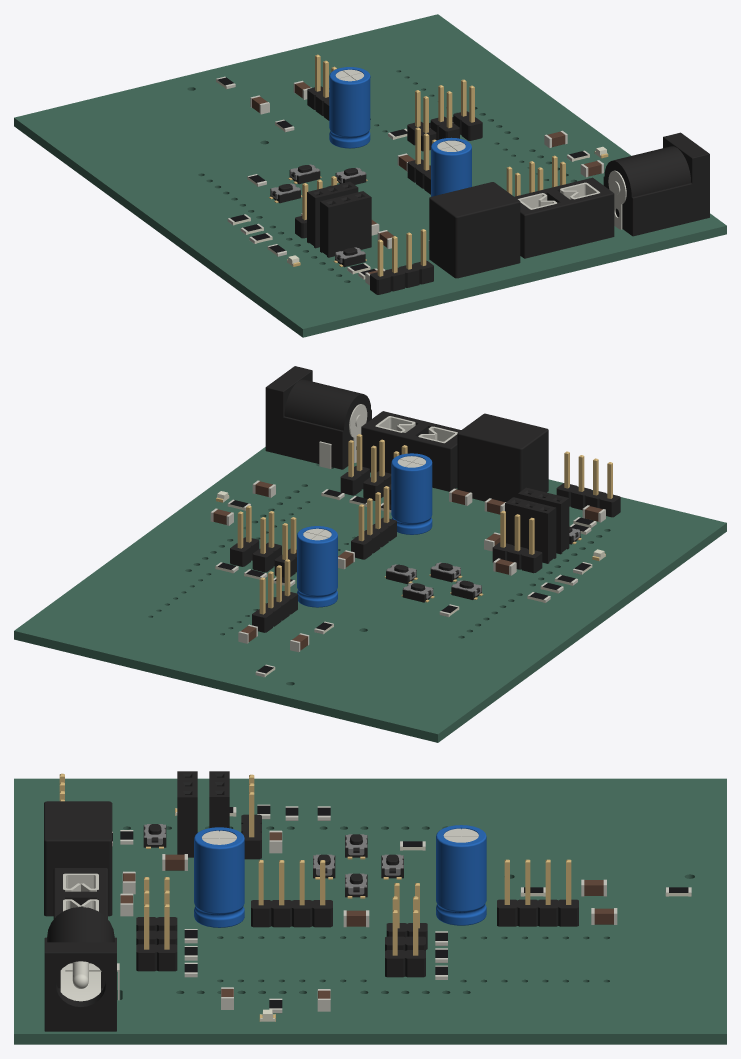
Rendered from pcb.glb.
3 views of the same model, one above another, from view 1: azimuth 30°, elevation 25°; view 2: azimuth 150°, elevation 25°; view 3: azimuth 270°, elevation 25° (orthographic). The views are drawn at different scales.
Parts seen in each view (by area): view 1: =>[0:1:1:26], =>[0:1:1:25], =>[0:1:1:21], =>[0:1:1:7], =>[0:1:1:19] (×2), =>[0:1:1:9] (×3), =>[0:1:1:13] (×2), =>[0:1:1:11] (×3), =>[0:1:1:23]; view 2: =>[0:1:1:26], =>[0:1:1:25], =>[0:1:1:21], =>[0:1:1:19] (×2), =>[0:1:1:9] (×3), =>[0:1:1:11] (×5), =>[0:1:1:7], =>[0:1:1:13] (×2), =>[0:1:1:23]; view 3: =>[0:1:1:26], =>[0:1:1:19] (×2), =>[0:1:1:25], =>[0:1:1:9] (×2), =>[0:1:1:11] (×6), =>[0:1:1:21], =>[0:1:1:13] (×2), =>[0:1:1:3] (×5), =>[0:1:1:7], =>[0:1:1:23], =>[0:1:1:15] (×2).
Boxes of the visible parts, left/top/right/bottom form: =>[0:1:1:26]: left=14, top=14, right=726, bottom=337; =>[0:1:1:25]: left=603, top=132, right=709, bottom=236; =>[0:1:1:21]: left=429, top=182, right=520, bottom=278; =>[0:1:1:7]: left=514, top=177, right=614, bottom=258; =>[0:1:1:19] (×2): left=329, top=67, right=471, bottom=196; =>[0:1:1:9] (×3): left=307, top=54, right=436, bottom=294; =>[0:1:1:13] (×2): left=307, top=181, right=371, bottom=257; =>[0:1:1:11] (×3): left=407, top=79, right=482, bottom=151; =>[0:1:1:23]: left=295, top=176, right=336, bottom=238; =>[0:1:1:26]: left=14, top=447, right=726, bottom=742; =>[0:1:1:25]: left=265, top=366, right=371, bottom=469; =>[0:1:1:21]: left=457, top=413, right=548, bottom=501; =>[0:1:1:19] (×2): left=297, top=453, right=432, bottom=607; =>[0:1:1:9] (×3): left=252, top=451, right=620, bottom=632; =>[0:1:1:11] (×5): left=230, top=434, right=391, bottom=577; =>[0:1:1:7]: left=361, top=411, right=460, bottom=491; =>[0:1:1:13] (×2): left=505, top=487, right=569, bottom=563; =>[0:1:1:23]: left=492, top=510, right=542, bottom=573; =>[0:1:1:26]: left=14, top=778, right=726, bottom=1044; =>[0:1:1:19] (×2): left=194, top=825, right=486, bottom=927; =>[0:1:1:25]: left=44, top=907, right=119, bottom=1031; =>[0:1:1:9] (×2): left=251, top=859, right=578, bottom=927; =>[0:1:1:11] (×6): left=136, top=877, right=427, bottom=977; =>[0:1:1:21]: left=44, top=801, right=112, bottom=916; =>[0:1:1:13] (×2): left=177, top=771, right=229, bottom=857; =>[0:1:1:3] (×5): left=143, top=824, right=403, bottom=898; =>[0:1:1:7]: left=53, top=868, right=107, bottom=919; =>[0:1:1:23]: left=241, top=774, right=261, bottom=859; =>[0:1:1:15] (×2): left=343, top=908, right=617, bottom=927.
Bounding box in the file's own units: 0.075 × 0.015 × 0.0885.
